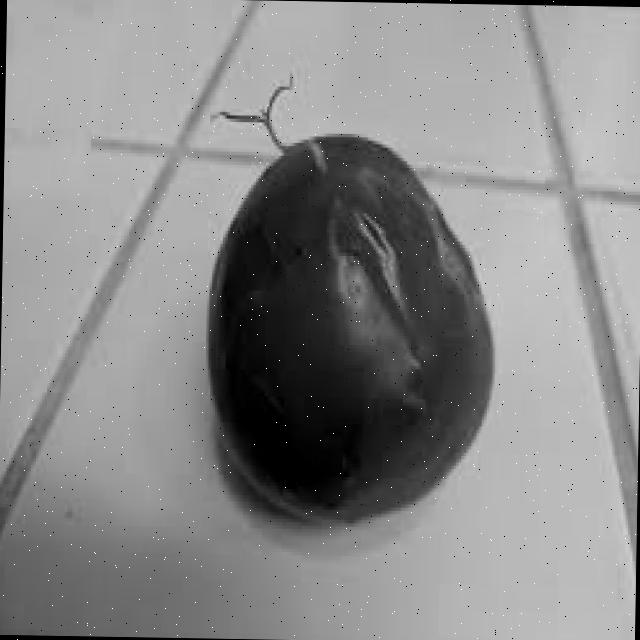overripe: (200, 128, 499, 525)
